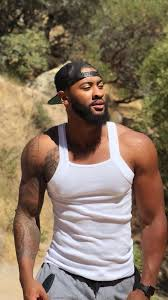s.black: (72, 96, 92, 116)
